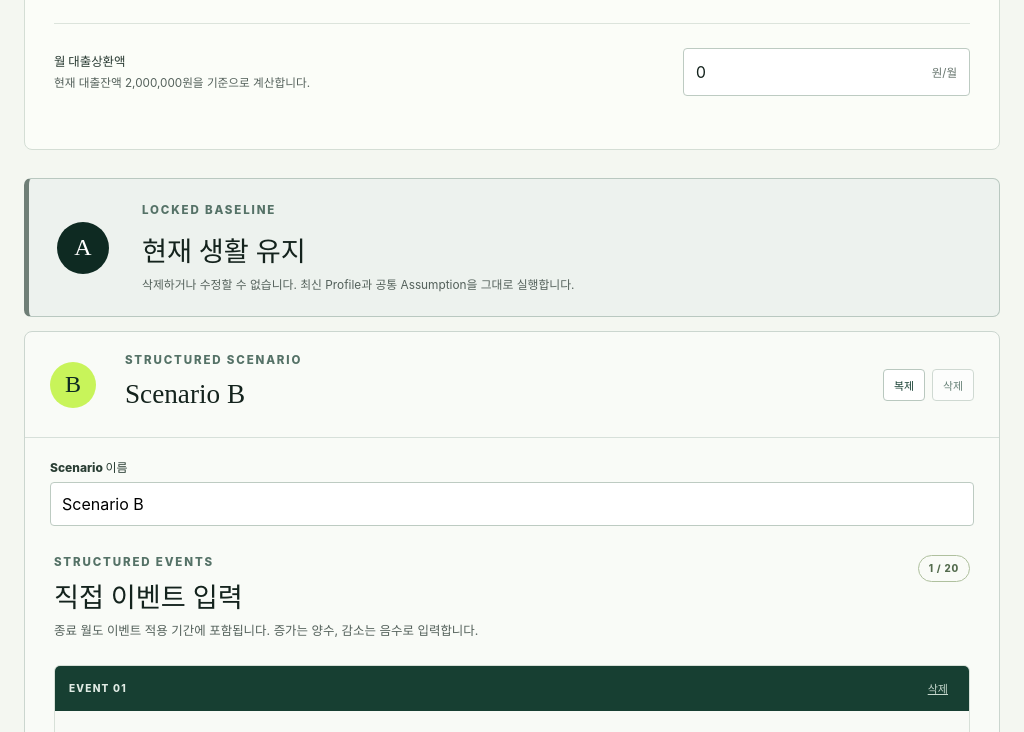
Test: ScenarioLabPage › adds, clones and deletes scenarios and enforces the four-scenario limit
This screenshot has width=1024, height=732.
(page scrolled)
Click the button "복제" at (904, 385), box top-left (883, 369), bottom-right (925, 401)
(page scrolled)
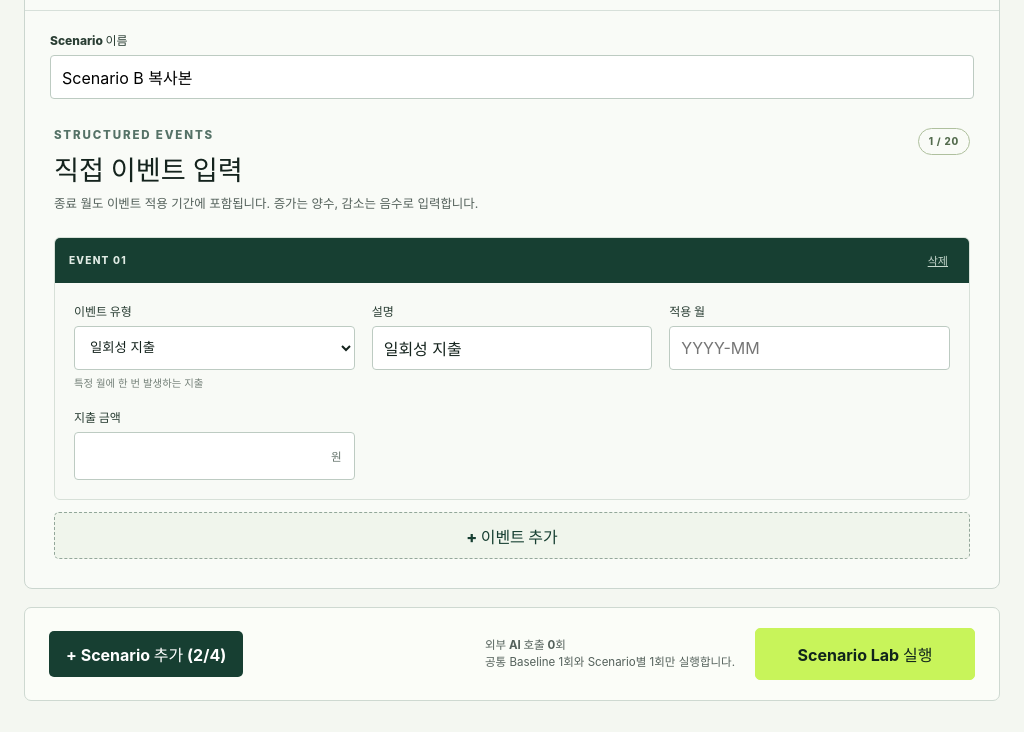
Click the button "+ Scenario 추가 (2/4)" at (146, 654), box top-left (49, 631), bottom-right (243, 677)
(page scrolled)
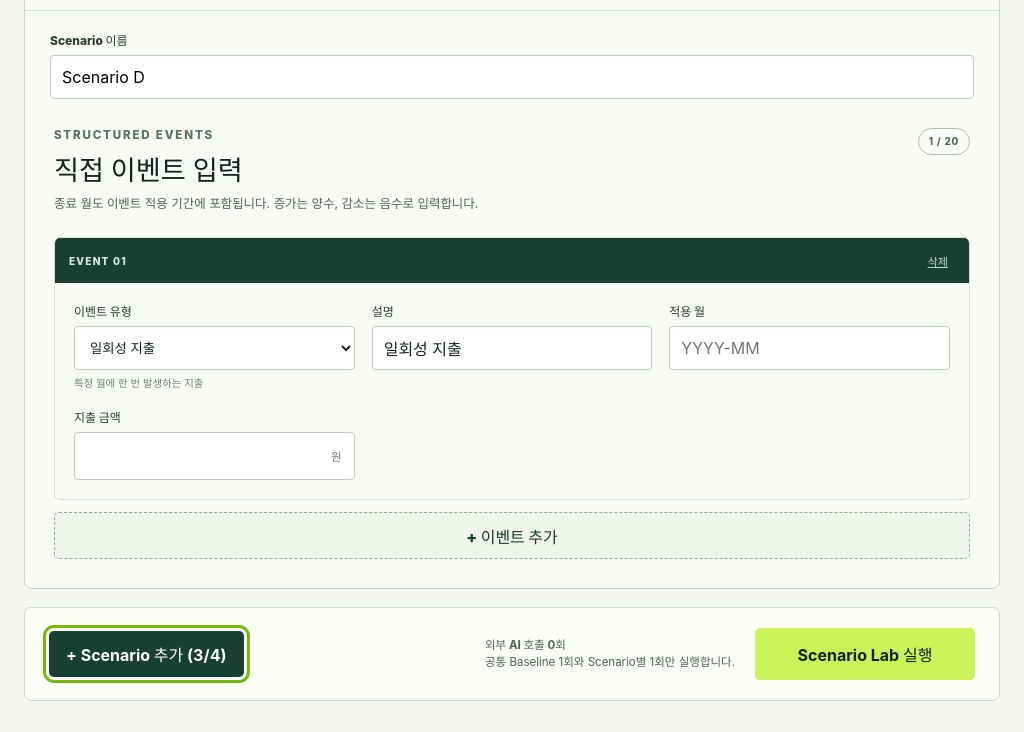
Click the button "+ Scenario 추가 (3/4)" at (146, 654), box top-left (49, 632), bottom-right (244, 678)
(page scrolled)
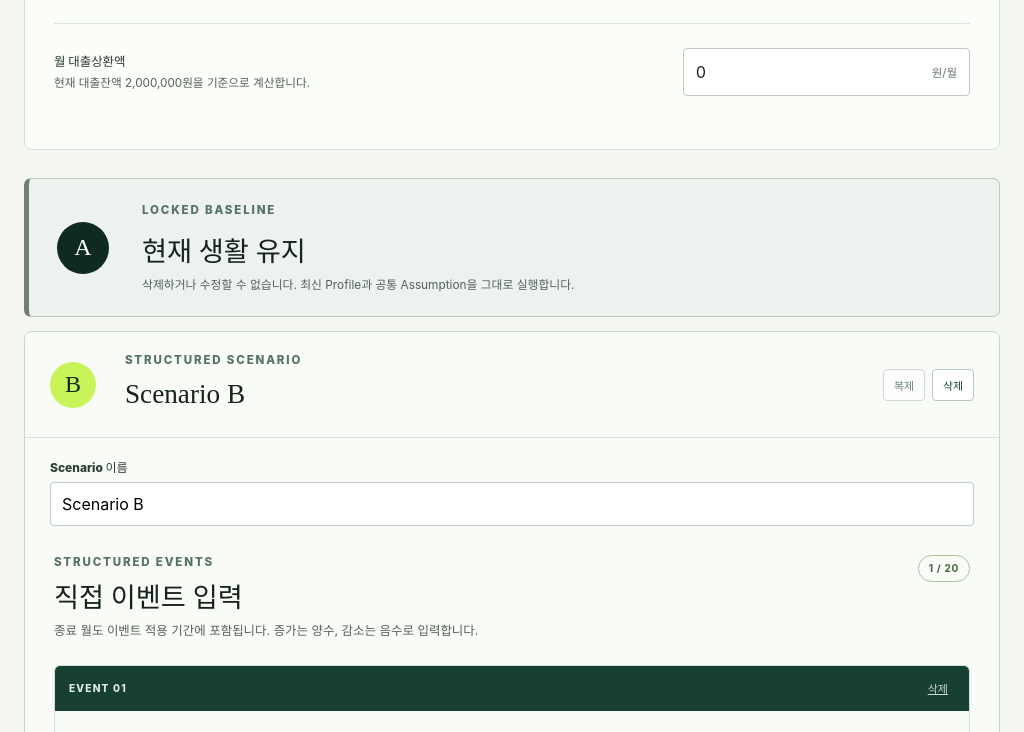
Expected: the text "STRUCTURED SCENARIO" is shown 4 times
Click the 1st button "삭제" at (953, 385), box top-left (932, 369), bottom-right (974, 401)
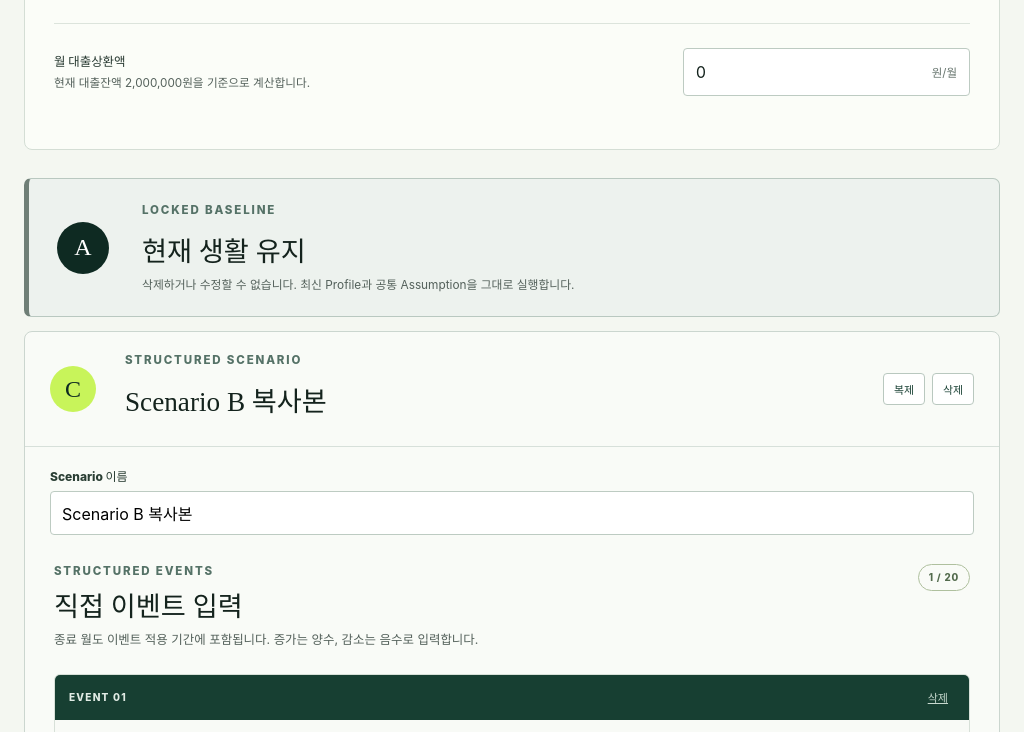
Expected: the text "STRUCTURED SCENARIO" is shown 3 times
